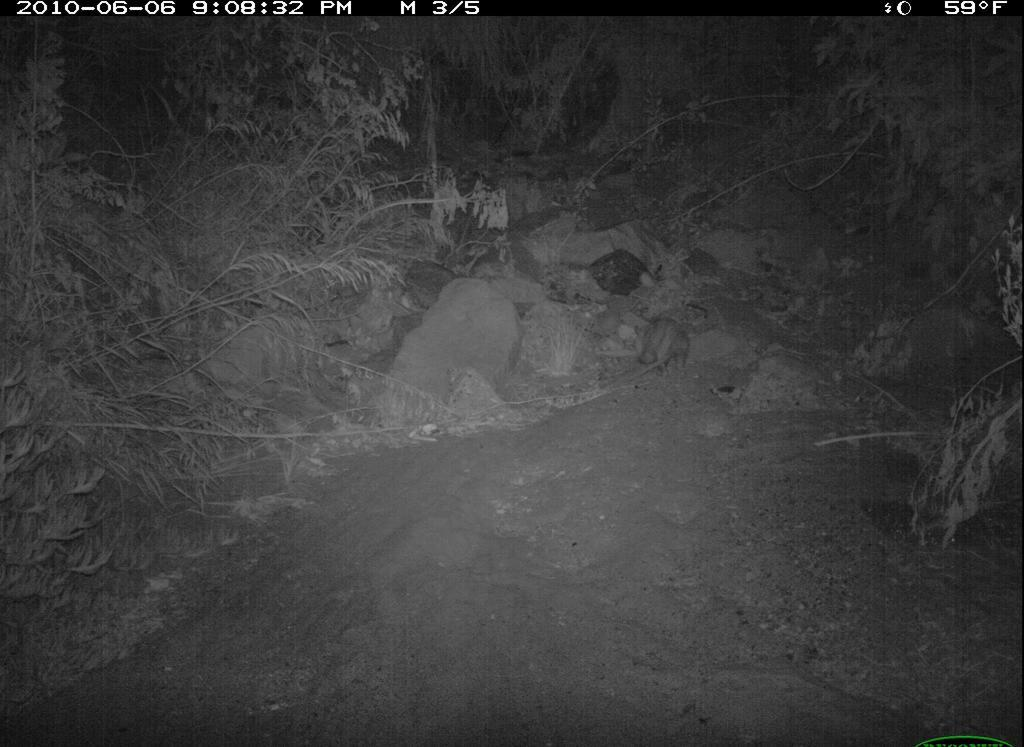opossum: (612, 308, 706, 406)
